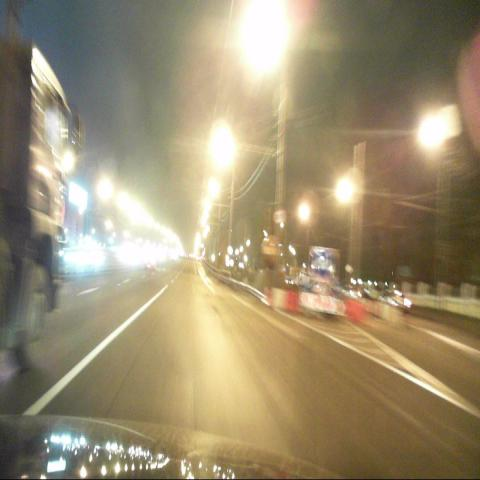4_2_3: (309, 246, 328, 281)
